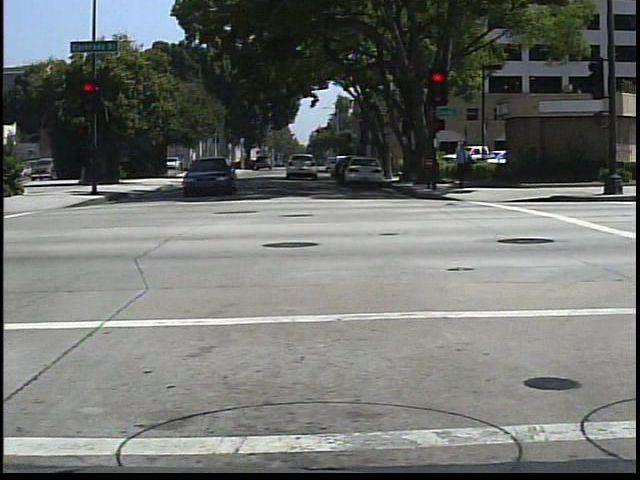person: (452, 138, 476, 194)
